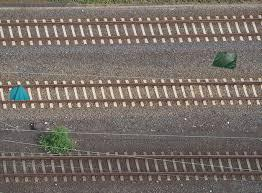Color_steel: (10, 82, 32, 104)
Dust_screen: (209, 49, 240, 72)
